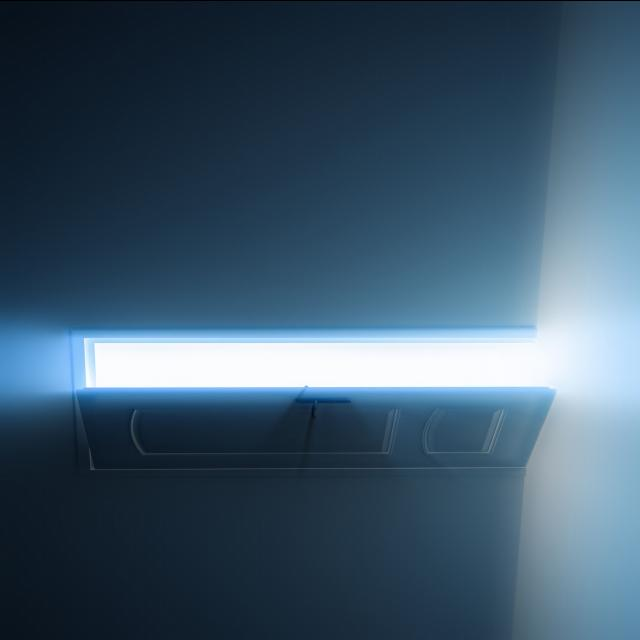open: (77, 332, 549, 471)
